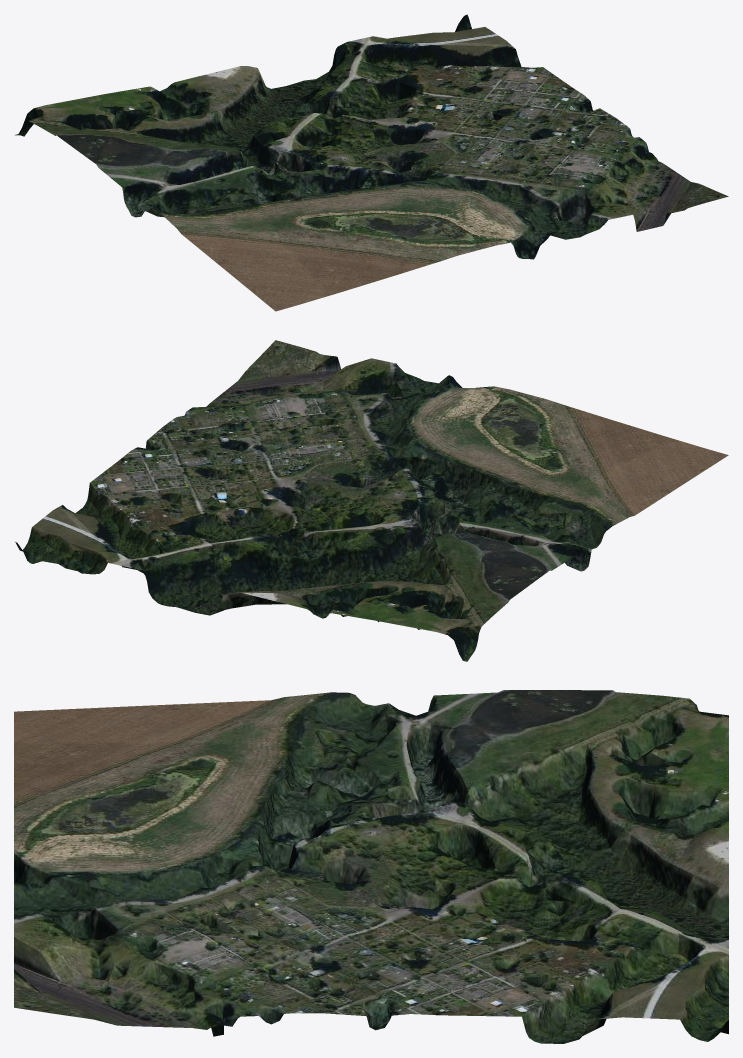
The model's file is map_13_2043_3445.dae.
The picture shows the model from 3 angles, top to bottom: view 1: azimuth 30°, elevation 25°; view 2: azimuth 150°, elevation 25°; view 3: azimuth 270°, elevation 25°; orthographic projection. The views are drawn at different scales.
Parts seen in each view (by area): view 1: Ter0; view 2: Ter0; view 3: Ter0.
Part boxes in pixels (box(x1,y1,x2,y2)): Ter0: box(15, 14, 728, 311); Ter0: box(15, 340, 728, 661); Ter0: box(14, 690, 728, 1043).
Size of the model in its own units: 256 by 256 by 26.25.
3 materials, 3 textured.
